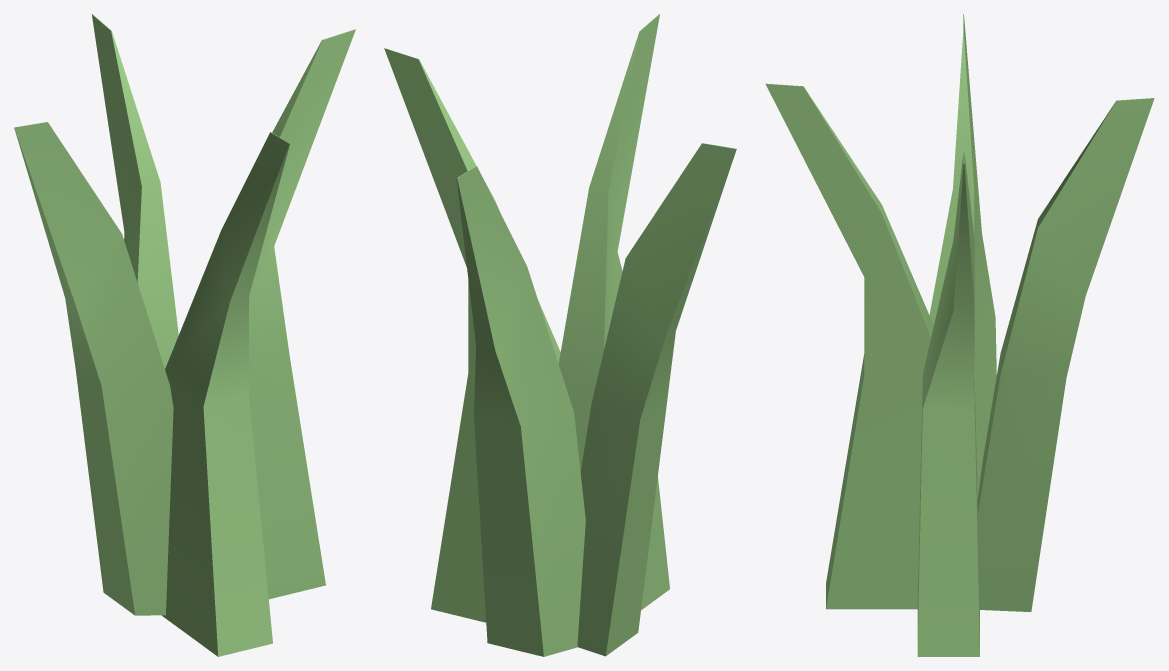
The model's file is grass1.fbx.
The picture shows the model from 3 angles, left to right: view 1: azimuth 30°, elevation 25°; view 2: azimuth 150°, elevation 25°; view 3: azimuth 270°, elevation 25°; orthographic projection. The views are drawn at different scales.
Visible parts, largest first — view 1: pCube65; view 2: pCube65; view 3: pCube65.
Boxes of the visible parts, x1,y1,x2,y2 form: pCube65: (14,14,355,656); pCube65: (384,14,736,656); pCube65: (765,14,1154,656).
Bounding box in the file's own units: 1.52 × 2.24 × 1.52.
